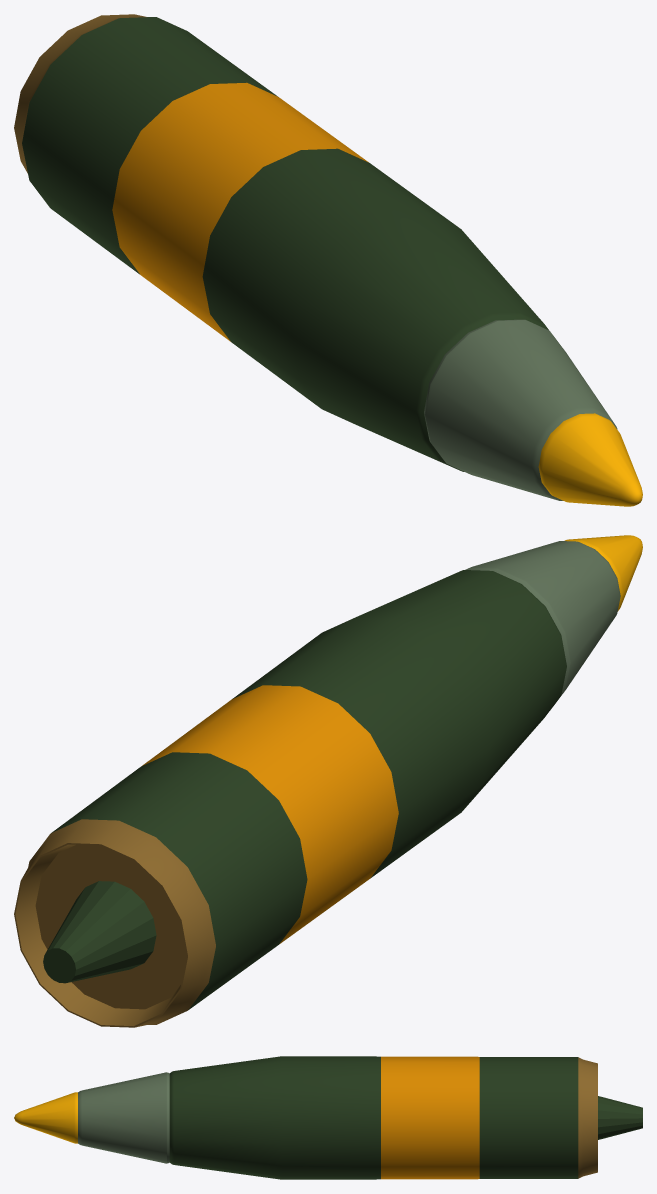
Rendered from cannonshooter_missile.fbx.
3 views of the same model, one above another, from view 1: azimuth 30°, elevation 25°; view 2: azimuth 150°, elevation 25°; view 3: azimuth 270°, elevation 25° (orthographic). The views are drawn at different scales.
Visible parts, largest first — view 1: Cylinder001; view 2: Cylinder001; view 3: Cylinder001.
Part boxes in pixels (x1,y1,x2,y2): Cylinder001: [14, 14, 642, 506]; Cylinder001: [14, 535, 642, 1027]; Cylinder001: [14, 1056, 642, 1179].
Size of the model in its own units: 7.21 by 7.21 by 36.65.
